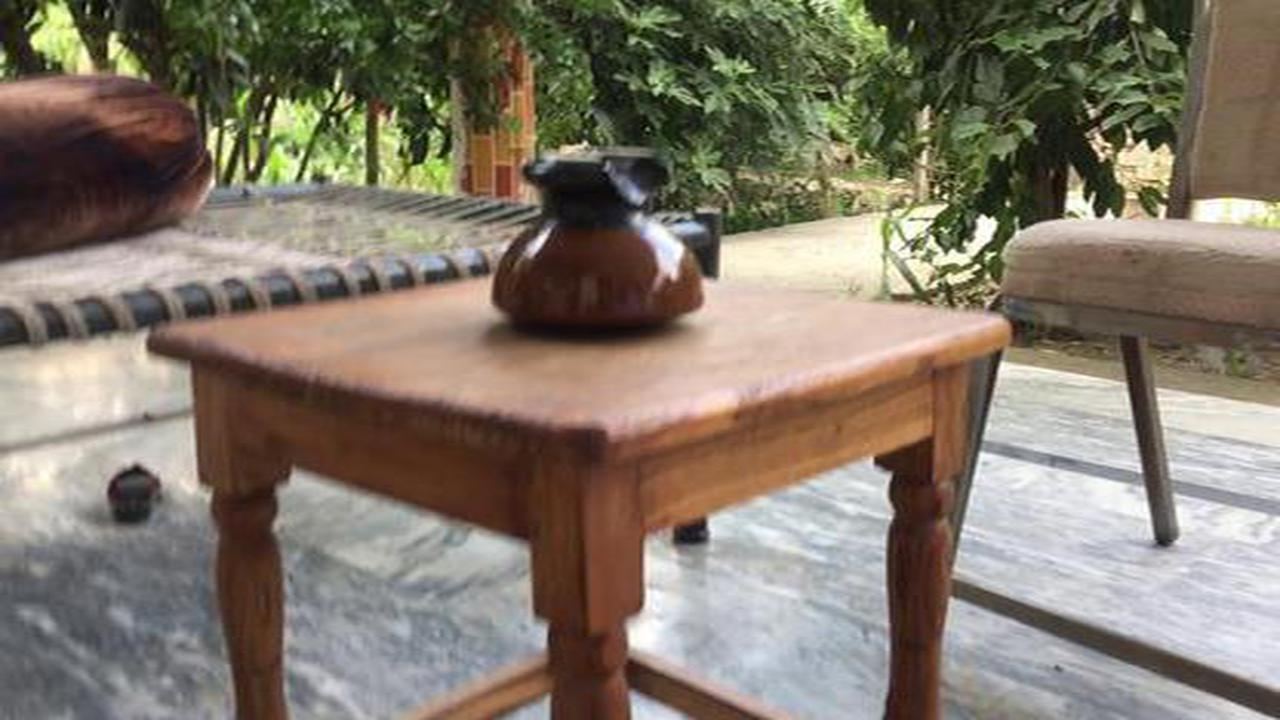insulator_pin: (471, 134, 724, 338)
